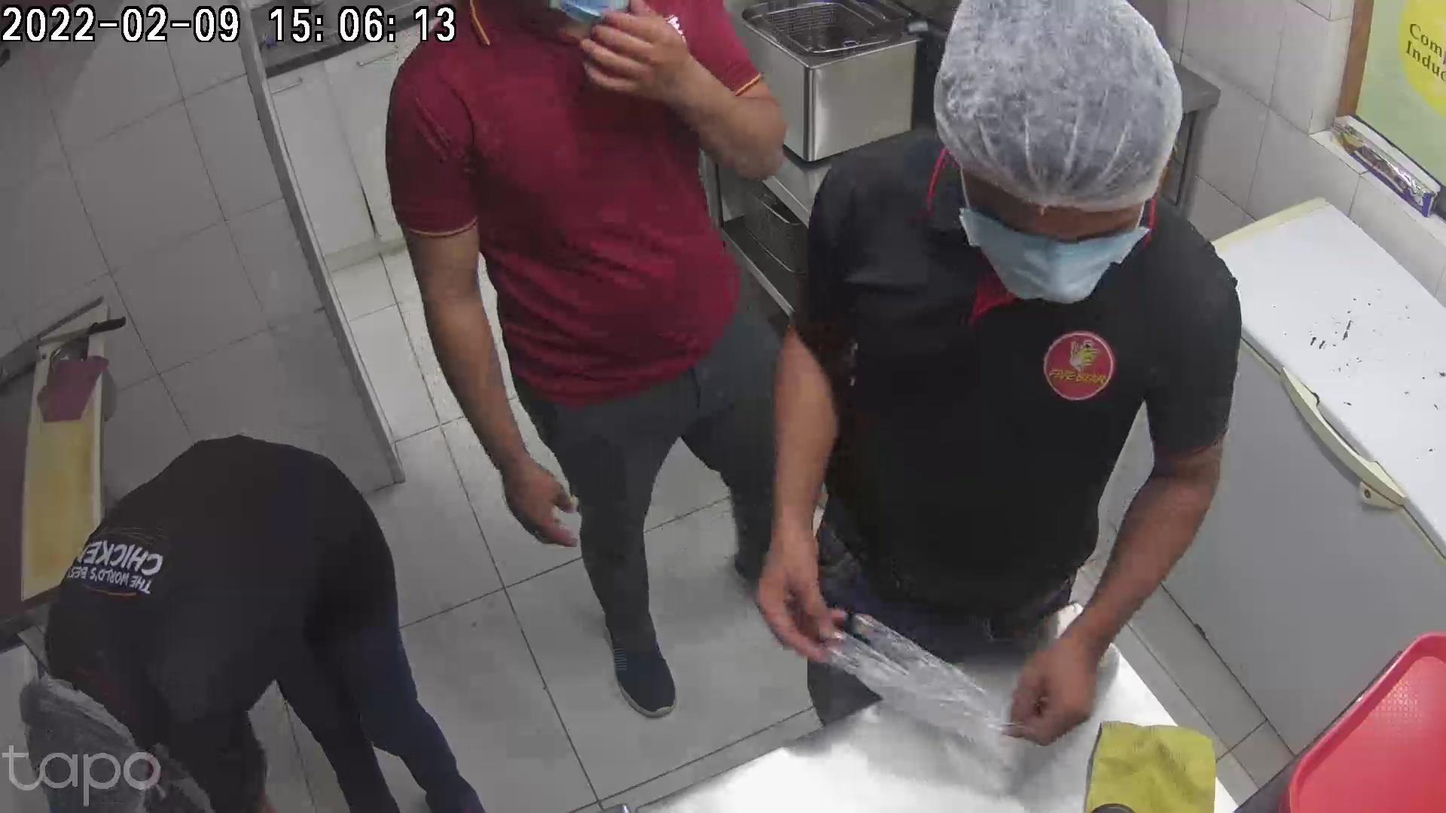no_gloves: (586, 14, 704, 107), (495, 430, 580, 550)
